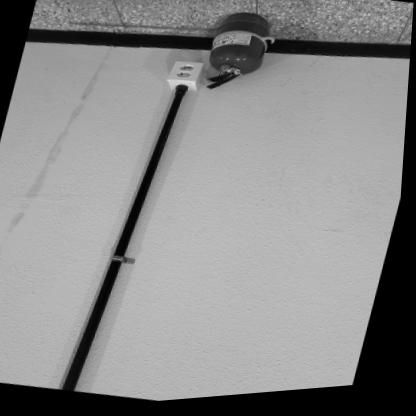FE: (197, 11, 277, 102)
